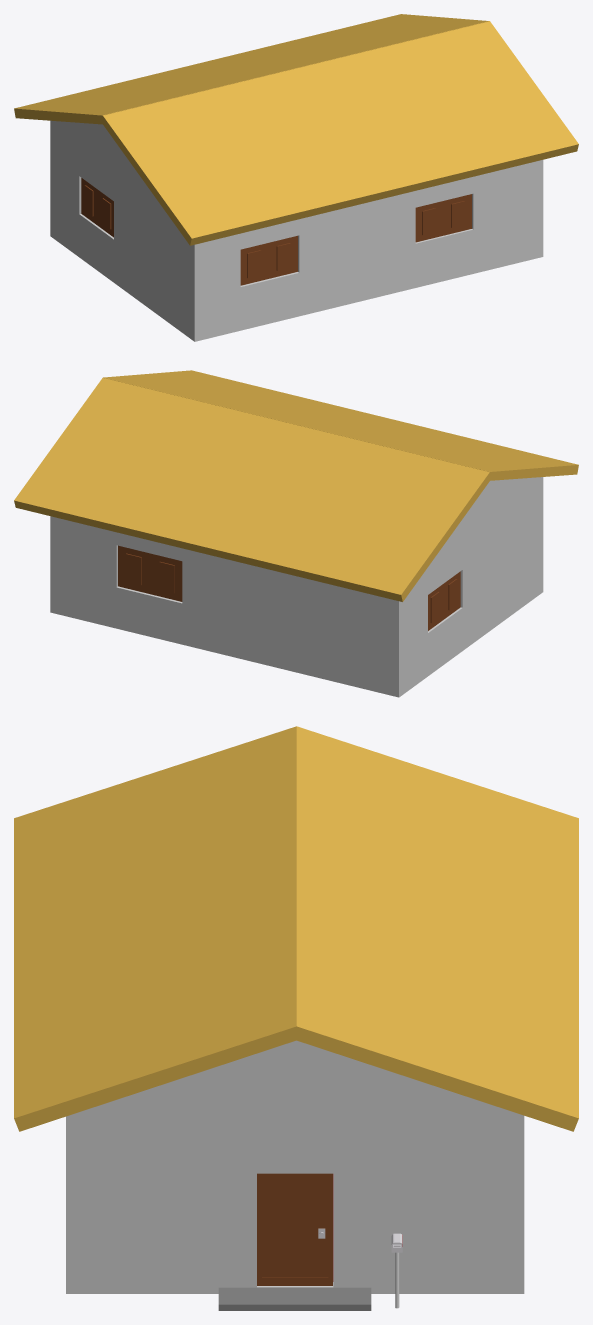
The model's file is Modelo casa.fbx.
3 renders of one model, top to bottom at view 1: azimuth 30°, elevation 25°; view 2: azimuth 150°, elevation 25°; view 3: azimuth 270°, elevation 25°, orthographic. The views are drawn at different scales.
Visible parts, largest first — view 1: Cubo.001, Cube, Cubo, Cubo.004, Cubo.003, Cubo.005; view 2: Cubo, Cube, Cubo.001, Cubo.006, Cubo.005; view 3: Cube, Cubo, Cubo.001, Cubo.002.
Part boxes in pixels (bbox=[...]): Cubo.001: bbox=[103, 21, 578, 245]; Cube: bbox=[50, 120, 543, 341]; Cubo: bbox=[14, 14, 488, 124]; Cubo.004: bbox=[240, 235, 297, 285]; Cubo.003: bbox=[415, 194, 471, 242]; Cubo.005: bbox=[81, 178, 113, 237]; Cubo: bbox=[14, 377, 490, 601]; Cube: bbox=[50, 477, 543, 697]; Cubo.001: bbox=[103, 370, 578, 480]; Cubo.006: bbox=[118, 545, 182, 601]; Cubo.005: bbox=[428, 571, 460, 630]; Cube: bbox=[66, 1040, 524, 1310]; Cubo: bbox=[294, 726, 578, 1131]; Cubo.001: bbox=[14, 726, 298, 1131]; Cubo.002: bbox=[257, 1173, 332, 1285].
Bounding box in the file's own units: 2030 × 900 × 1605.
